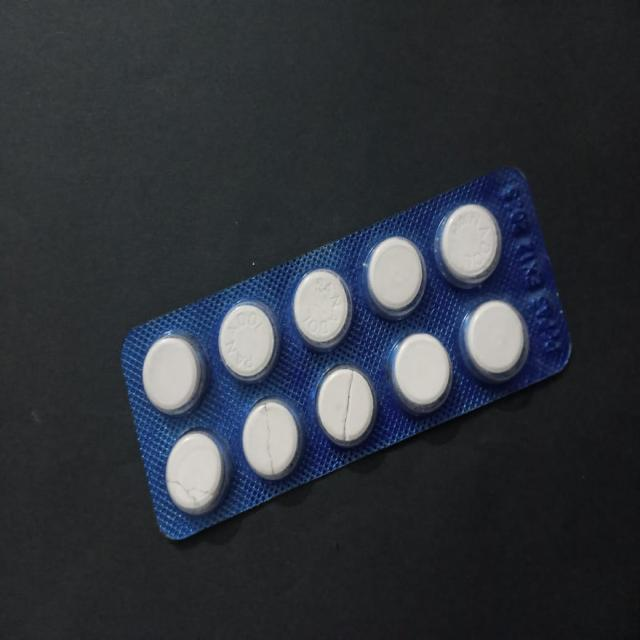defect: (162, 426, 231, 517), (314, 363, 380, 452), (241, 396, 306, 486)
